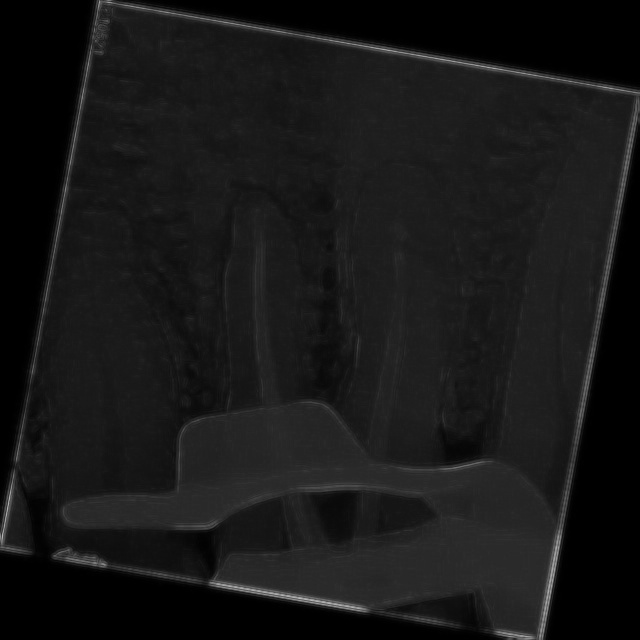Class 1- complete endodontic treatment: (105, 86, 558, 614)
